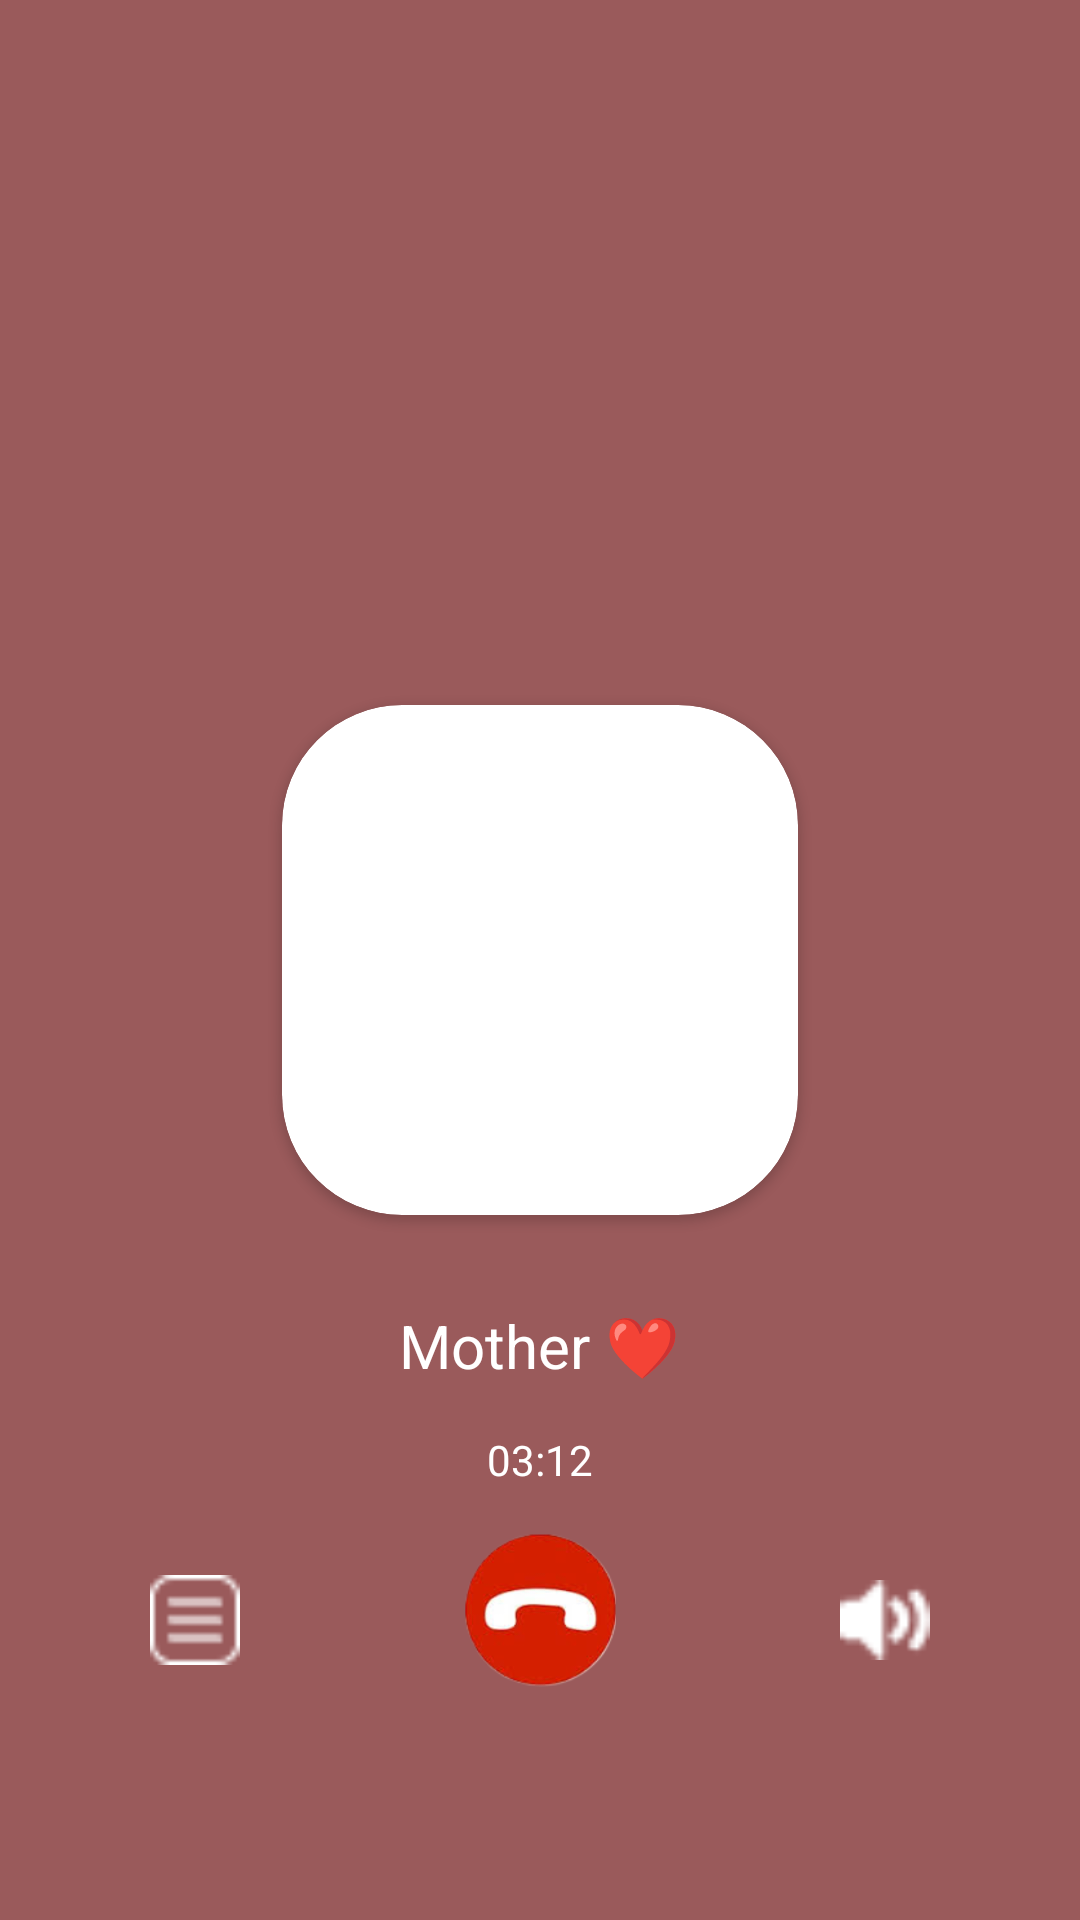

Where to tap for icons on this 1080px x 1920px app screen, as (x=x, y=y):
endcall: (x=540, y=1578)
notes: (x=195, y=1620)
soundon: (x=885, y=1620)
